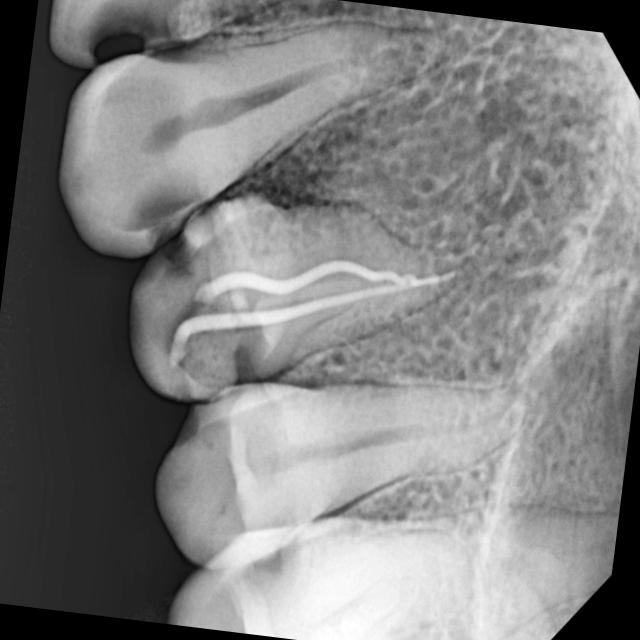Caries: (106, 174, 207, 298), (69, 0, 167, 73)
Normal: (138, 362, 540, 569)
RCT: (125, 205, 487, 409)
